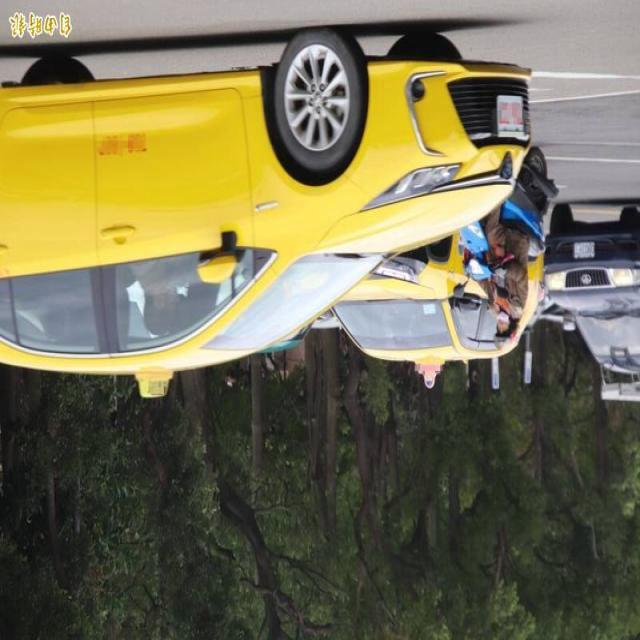taxi: (1, 2, 561, 409), (309, 234, 556, 395)
